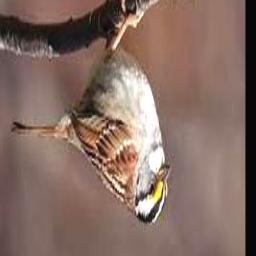Sparrow: (12, 0, 172, 225)
